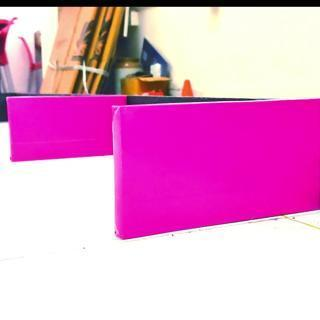xparking: (116, 105, 320, 228), (8, 94, 112, 164)
